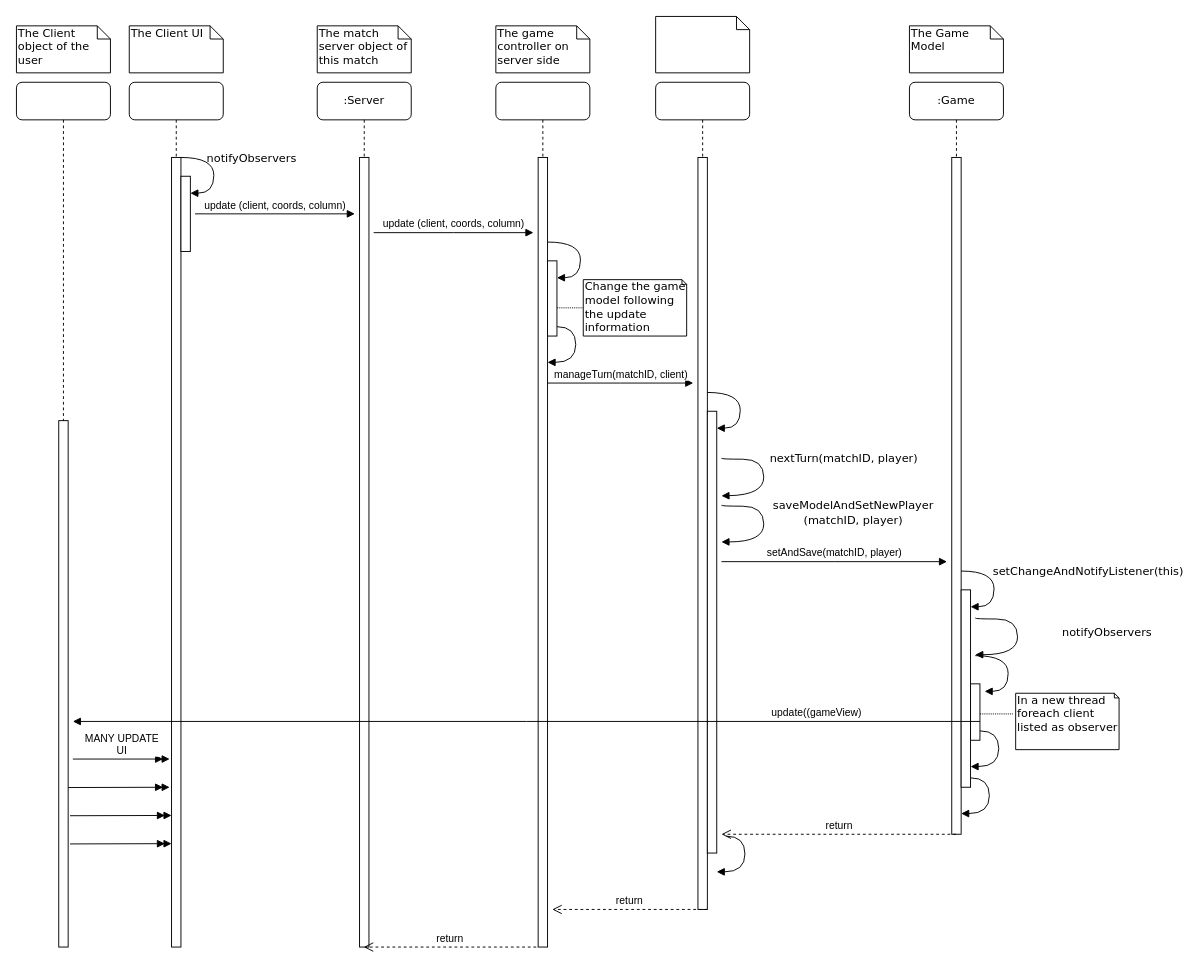
Some shapes in this 1199 by 973 pixel diagram are drawn without their labels. The shapes that lost their labels are listed below. From the top down, each one's box as (x1, y1, x2, y2) in pixels, then its label:
(655, 16, 750, 73): The TurnHandler of this game controller
(16, 81, 110, 947): :Client
(128, 81, 223, 947): :View
(495, 81, 590, 947): :Controller
(655, 81, 750, 909): :TurnHandler
